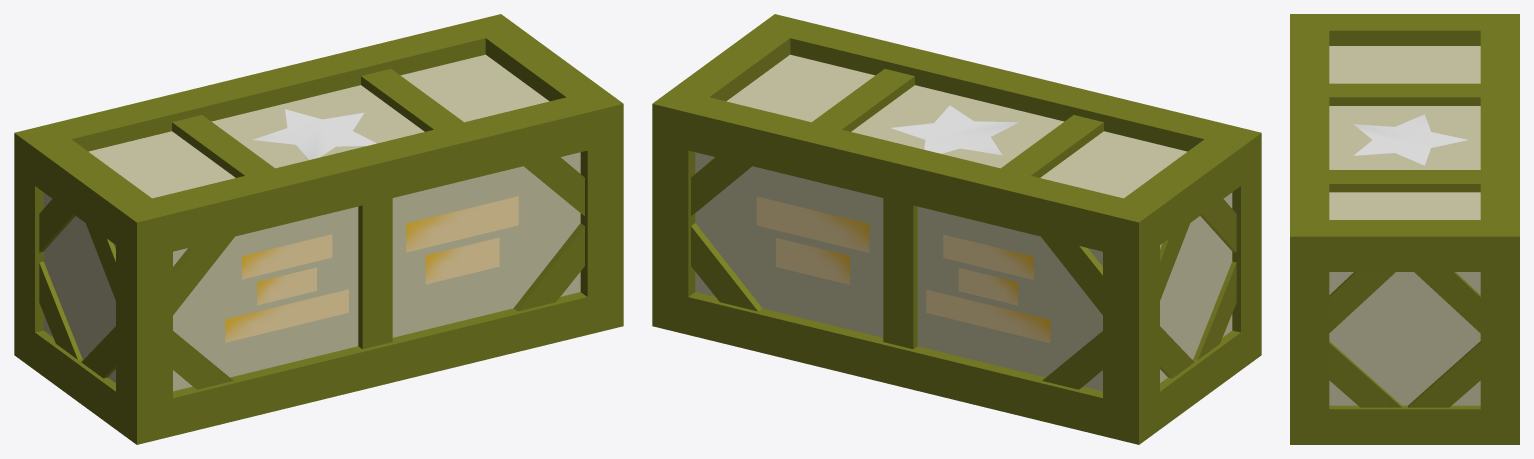
File: box_big_4.glb
The picture shows the model from 3 angles, left to right: view 1: azimuth 30°, elevation 25°; view 2: azimuth 150°, elevation 25°; view 3: azimuth 270°, elevation 25°; orthographic projection. The views are drawn at different scales.
Parts seen in each view (by area): view 1: box_006; view 2: box_006; view 3: box_006.
Part boxes in pixels (<box>): box_006: <box>14,14,623,444</box>; box_006: <box>652,14,1261,444</box>; box_006: <box>1290,14,1519,444</box>.
Size of the model in its own units: 1.57 by 0.6843 by 0.6843.
Materials: 1 (1 with a texture image).
